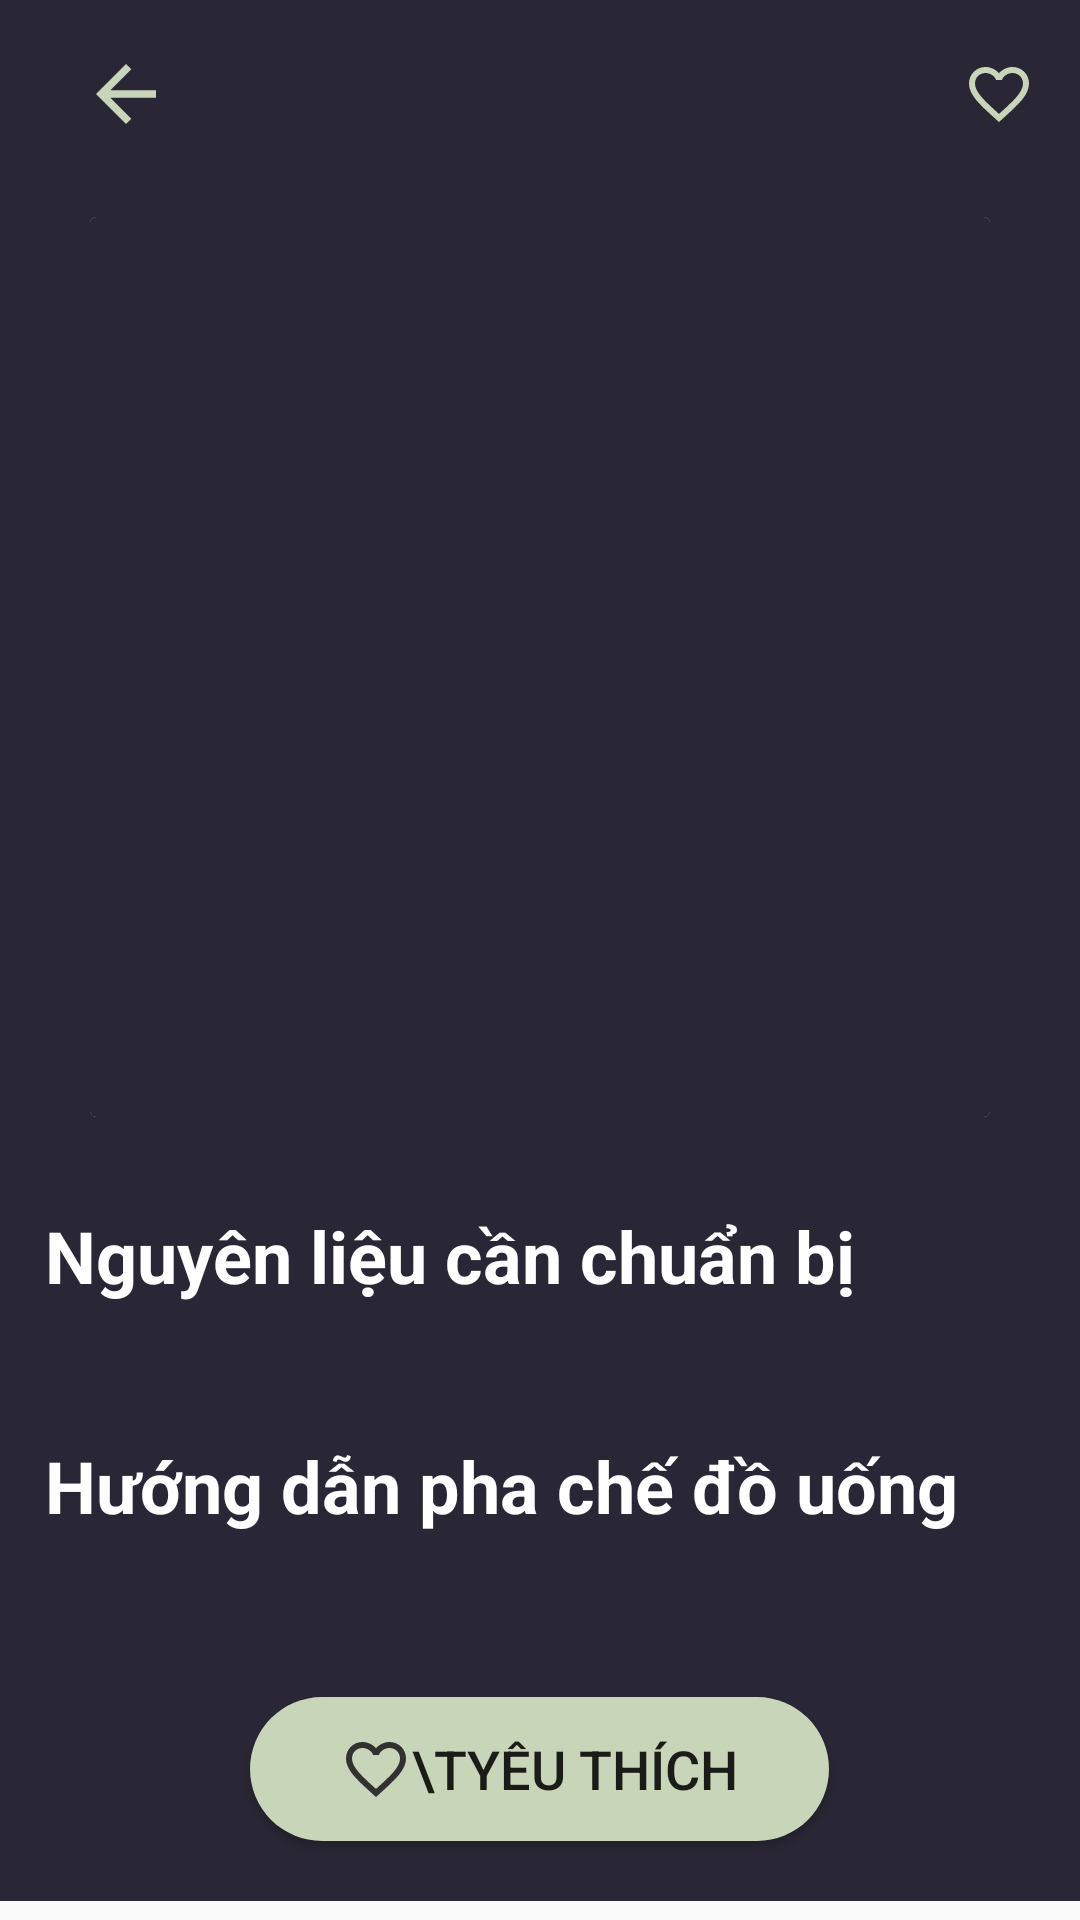

Locate icon controls on the screen. Image size 1080*1920, boxes as (x1, y1, x2, y2).
arrow back: (96, 64, 156, 124)
favorite border: (969, 67, 1029, 122)
